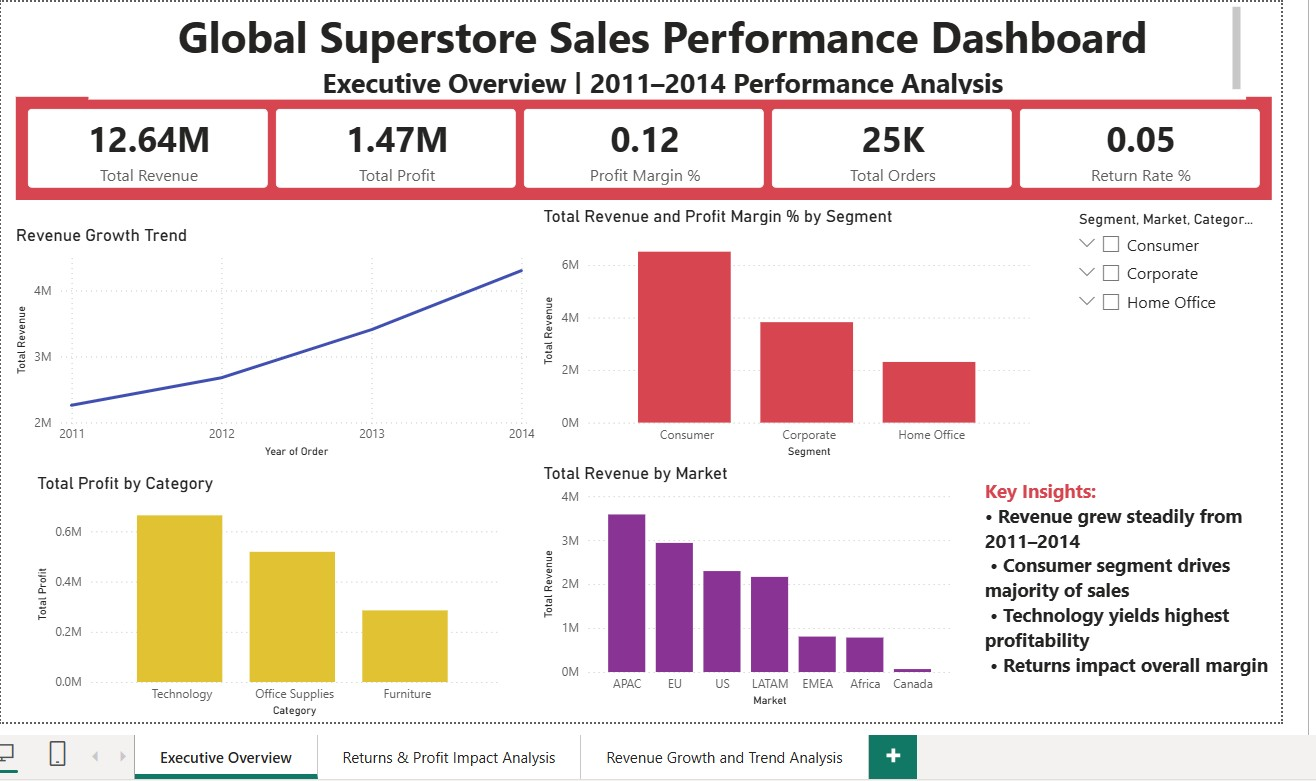

Layout of this report page (visuals, bound fields, positions):
{"tool":"powerbi","page":{"name":"Executive Overview","canvas":[1280,720],"ordinal":0},"visuals":[{"type":"cardVisual","fields":{"Data":["Orders.Total Revenue","Orders.Total Profit","Orders.Profit Margin %","Orders.Total Orders","Orders.Return Rate %"]},"box":[9.5,90.6,1270.8,113.6],"z":0},{"type":"lineChart","title":"Revenue Growth Trend","fields":{"Category":["Orders.Order_Date.Variation.Date Hierarchy.Year"],"Y":["Orders.Total Revenue"]},"box":[9.5,223.1,528.6,237.9],"z":1000},{"type":"clusteredColumnChart","fields":{"Category":["Orders.Category"],"Y":["Orders.Total Profit"]},"box":[31.1,471.8,470.5,248.8],"z":2000},{"type":"clusteredColumnChart","fields":{"Category":["Orders.Segment"],"Y":["Orders.Total Revenue"]},"box":[538.1,204.1,496.2,256.9],"z":3000},{"type":"clusteredColumnChart","fields":{"Category":["Orders.Market"],"Y":["Orders.Total Revenue"]},"box":[538.1,461,417.7,248.8],"z":4000},{"type":"slicer","fields":{"Values":["Orders.Segment","Orders.Market","Orders.Category","Orders.Order_Date"]},"box":[1065.3,204.1,209.5,132.5],"z":5000},{"type":"textbox","box":[87.9,0,1157.2,97.3],"z":6000},{"type":"textbox","box":[978.8,471.8,296.1,248.8],"z":7000}]}

Visuals, with their boxes on the page's 1280x720 design canvas (x1, y1, x2, y2). These are canvas units, not pixel positions in the 1316x781 screenshot, which may show the page scaled, cropped or inside an application window:
cardVisual - Orders.Total Revenue x Orders.Total Profit: rect(10, 91, 1280, 204)
"Revenue Growth Trend" lineChart: rect(10, 223, 538, 461)
clusteredColumnChart - Orders.Category x Orders.Total Profit: rect(31, 472, 502, 721)
clusteredColumnChart - Orders.Segment x Orders.Total Revenue: rect(538, 204, 1034, 461)
clusteredColumnChart - Orders.Market x Orders.Total Revenue: rect(538, 461, 956, 710)
slicer - Orders.Segment x Orders.Market: rect(1065, 204, 1275, 337)
textbox: rect(88, 0, 1245, 97)
textbox: rect(979, 472, 1275, 721)
